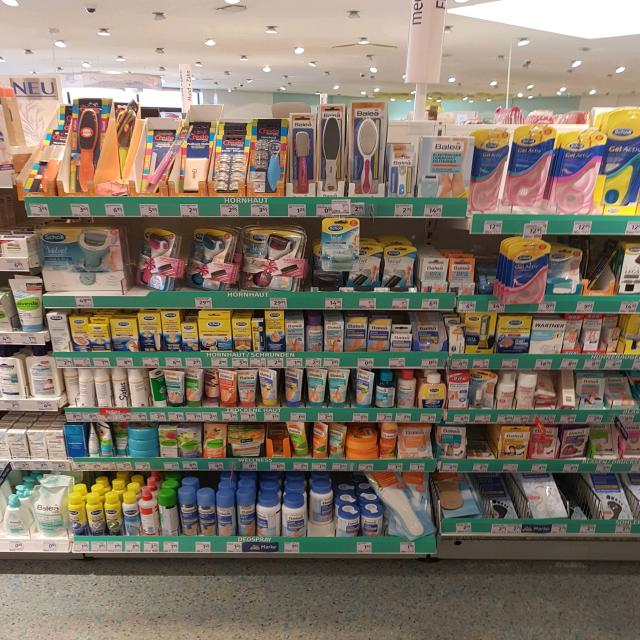unorganised: (308, 485, 336, 523), (558, 428, 592, 458), (557, 369, 577, 410), (266, 424, 292, 455), (288, 419, 308, 456), (536, 370, 557, 403), (99, 421, 114, 458), (204, 365, 219, 400), (112, 424, 129, 452)
